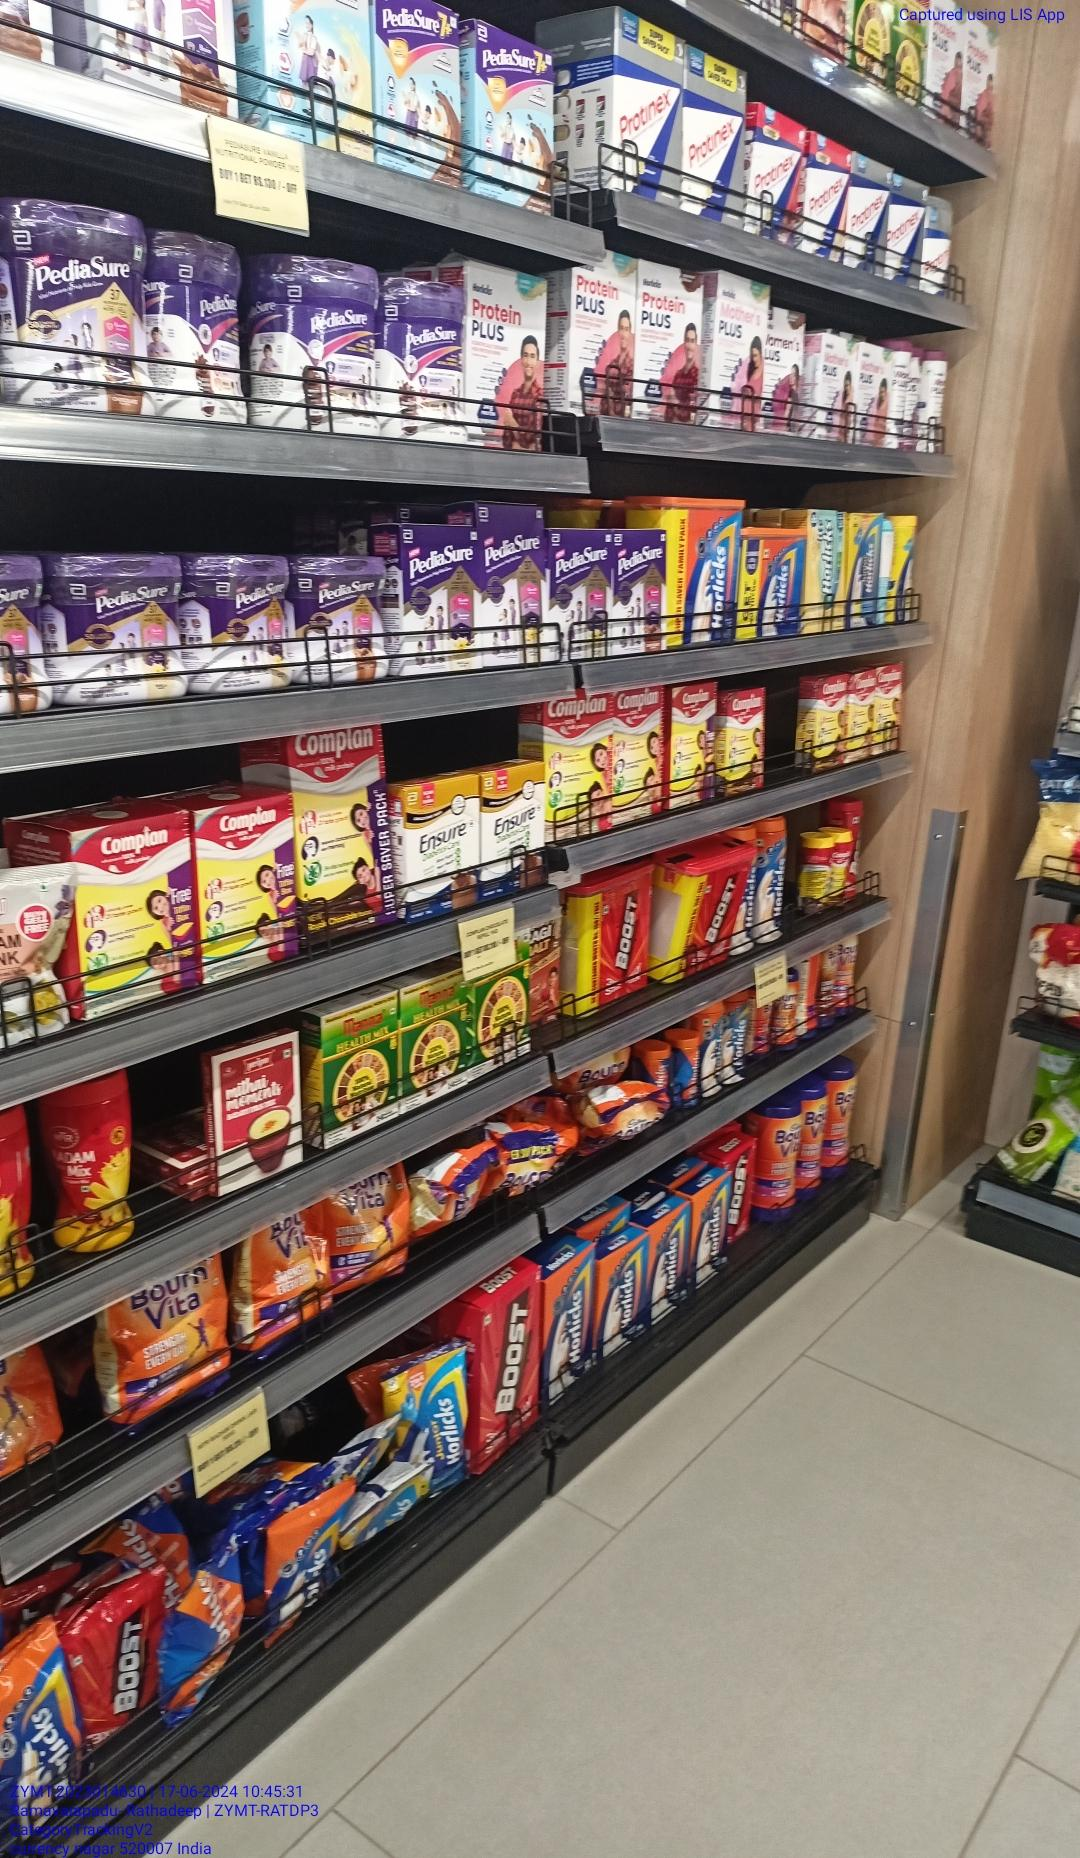COMPLAN_CHOCOLATE_200_GMS_PACK: (728, 687, 765, 792), (815, 674, 849, 773)
COMPLAN_CREAMY_CLASSIC_500_G_PACK: (77, 818, 189, 1008), (195, 804, 301, 971)
HORLICK_MALT_1_KG_CONTAINER: (737, 527, 807, 636)
